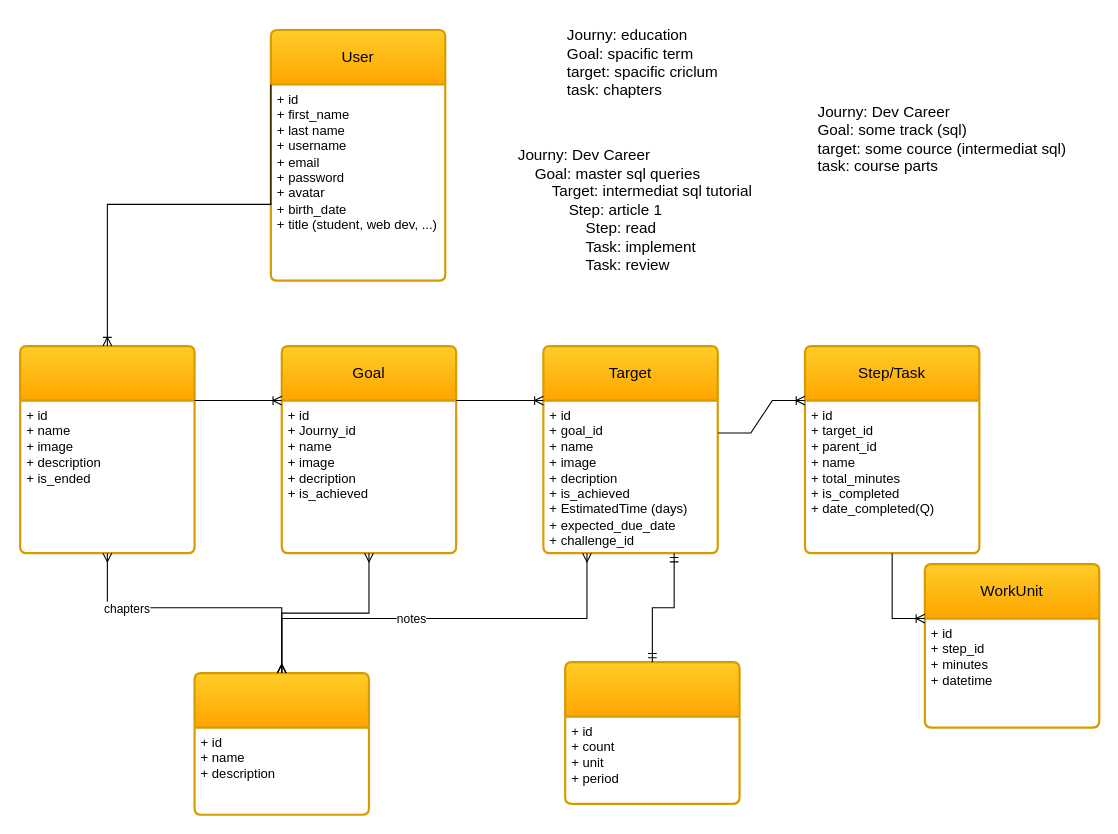
Image size: 1118x834. Some labels were removed from this diagram. The box of each missing label's shape, as (x1, y1, x2, y2) in pixels:
Chanllenge: (564, 661, 740, 804)
Journy: (19, 344, 195, 554)
Key_Point: (193, 671, 370, 815)
